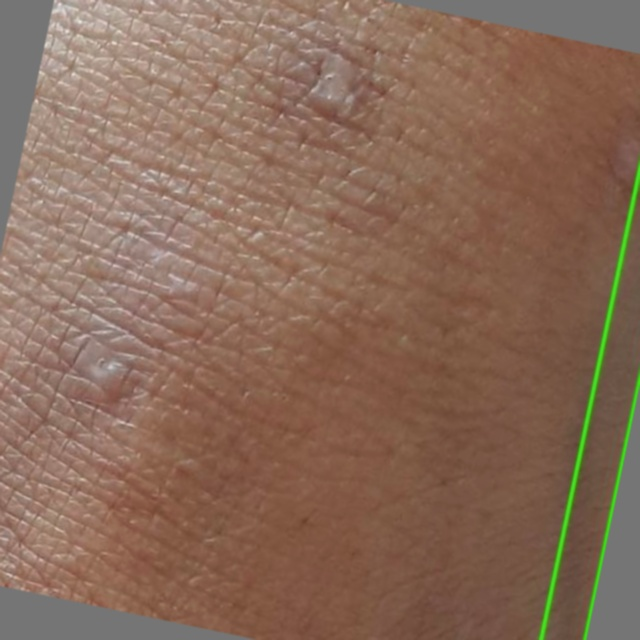Scabies: (541, 170, 639, 639)
